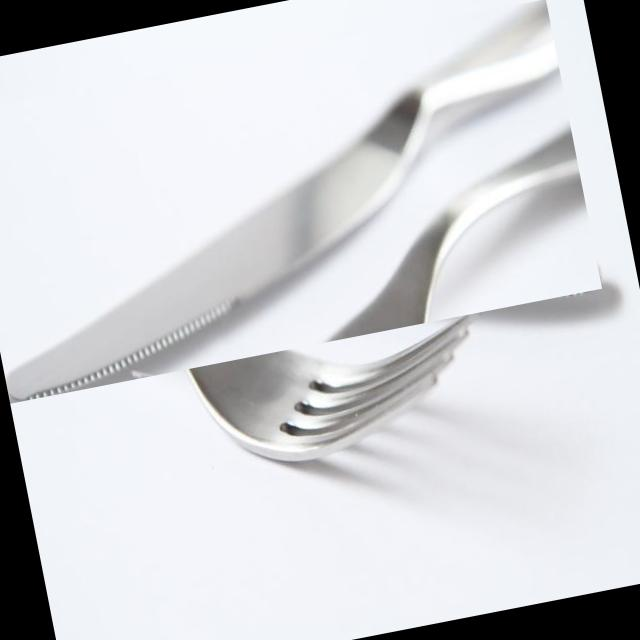Knife: (6, 0, 559, 400)
